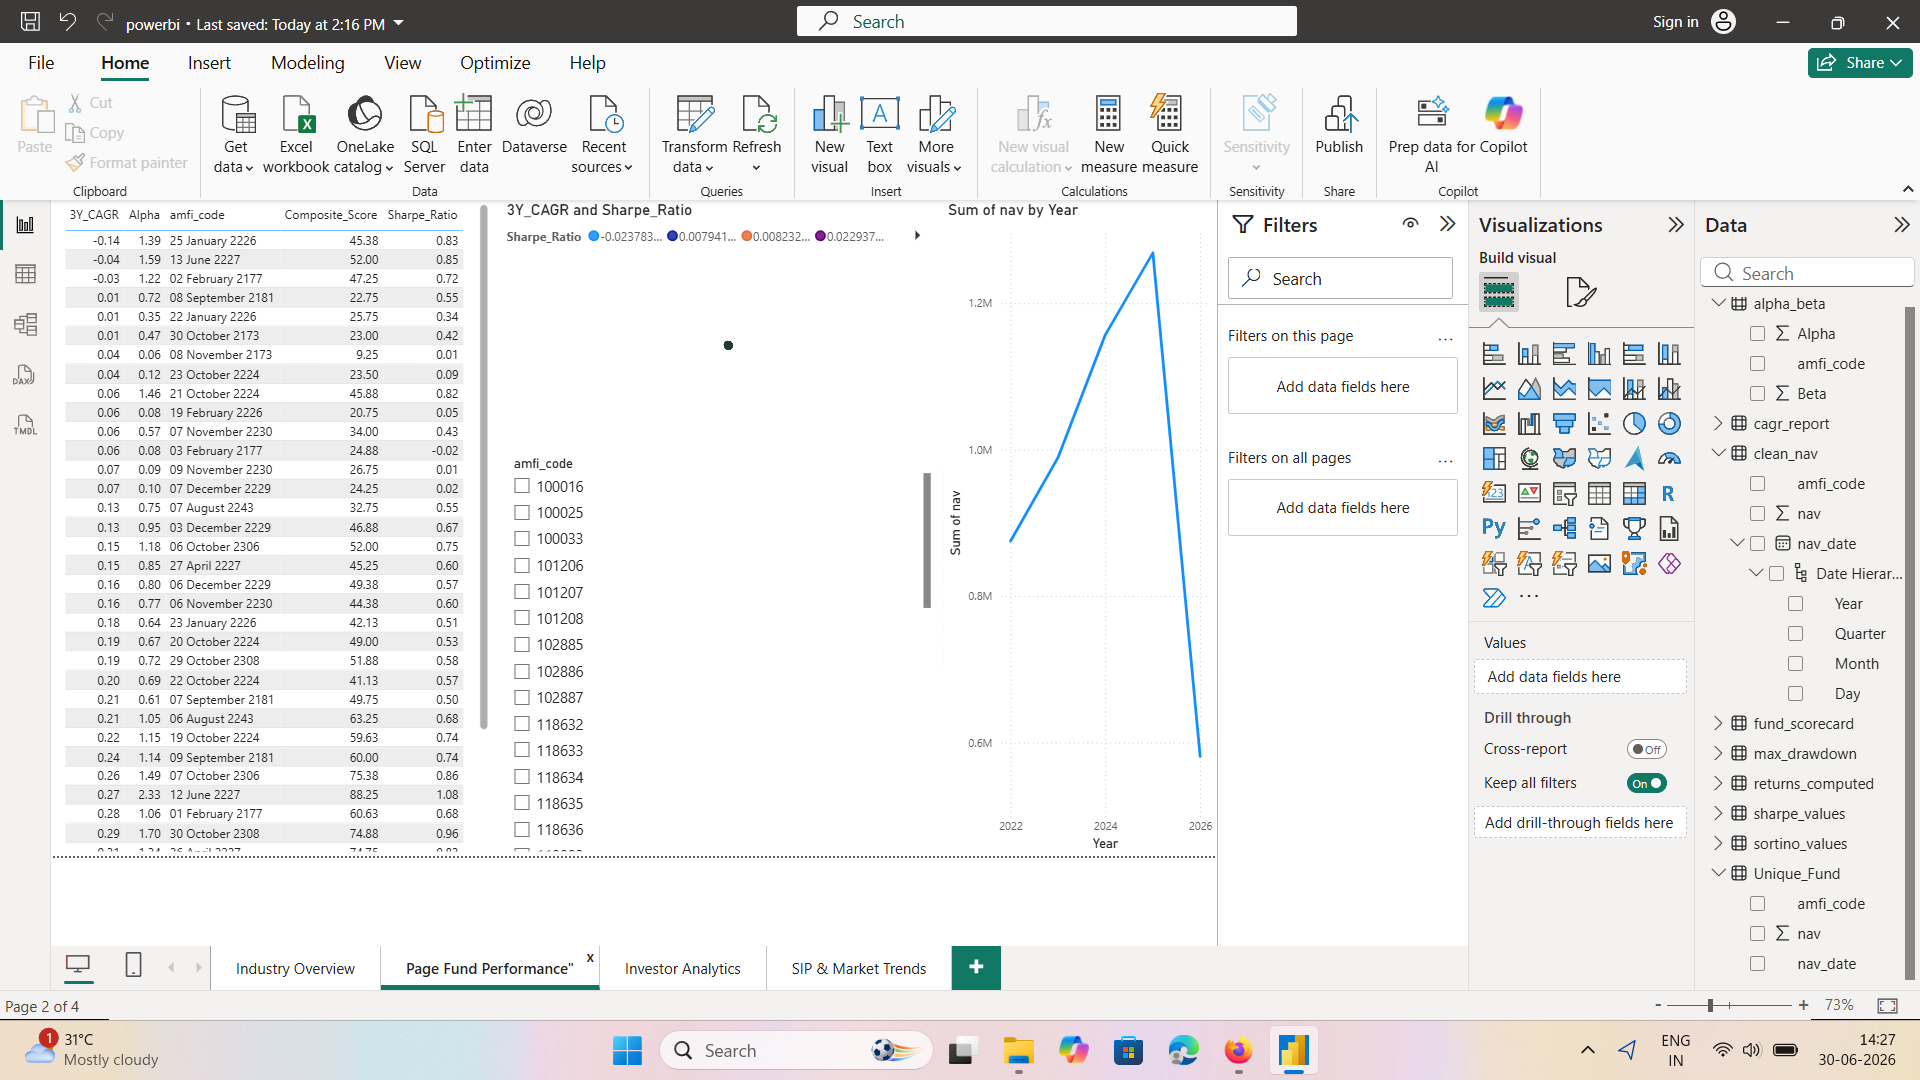

This screenshot's page, from the dashboard's own definition file:
{"tool":"powerbi","page":{"name":"Page Fund Performance\"","canvas":[1280,720],"ordinal":1},"visuals":[{"type":"tableEx","fields":{"Values":["fund_scorecard.3Y_CAGR","fund_scorecard.Alpha","fund_scorecard.amfi_code","fund_scorecard.Composite_Score","fund_scorecard.Sharpe_Ratio"]},"box":[10,0,475,720],"z":0},{"type":"lineChart","box":[980,0,300,720],"z":1000},{"type":"scatterChart","fields":{"Category":["fund_scorecard.3Y_CAGR"],"Series":["fund_scorecard.Sharpe_Ratio"]},"box":[495,0,475,276.2],"z":2000},{"type":"lineChart","fields":{"Category":["clean_nav.nav_date.Variation.Date Hierarchy.Year","clean_nav.nav_date.Variation.Date Hierarchy.Quarter","clean_nav.nav_date.Variation.Date Hierarchy.Month","clean_nav.nav_date.Variation.Date Hierarchy.Day"],"Y":["Sum(clean_nav.nav)"]},"box":[980,0,300,720],"z":3000},{"type":"slicer","fields":{"Values":["clean_nav.amfi_code"]},"box":[495,276,475,444],"z":4000}]}

Visuals, with their boxes on the page's 1280x720 design canvas (x1, y1, x2, y2). These are canvas units, not pixel positions in the 1920x1080 screenshot, which may show the page scaled, cropped or inside an application window:
tableEx - fund_scorecard.3Y_CAGR x fund_scorecard.Alpha: [10, 0, 485, 720]
lineChart: [980, 0, 1280, 720]
scatterChart - fund_scorecard.3Y_CAGR x fund_scorecard.Sharpe_Ratio: [495, 0, 970, 276]
lineChart - clean_nav.nav_date.Variation.Date Hierarchy.Year x clean_nav.nav_date.Variation.Date Hierarchy.Quarter: [980, 0, 1280, 720]
slicer - clean_nav.amfi_code: [495, 276, 970, 720]
